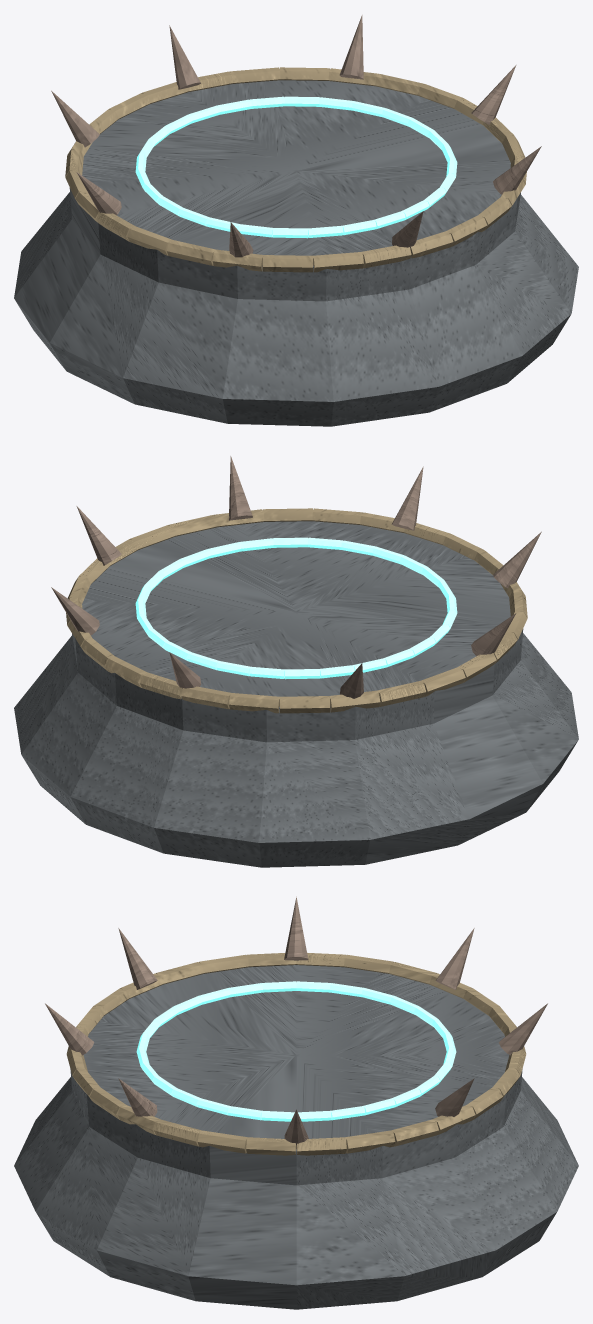
File: leyline_shrine.glb
The picture shows the model from 3 angles, top to bottom: view 1: azimuth 30°, elevation 25°; view 2: azimuth 150°, elevation 25°; view 3: azimuth 270°, elevation 25°; orthographic projection.
Visible parts, largest first — view 1: stone, gold, glowcyan, bronze; view 2: stone, gold, glowcyan, bronze; view 3: stone, gold, glowcyan, bronze.
Part boxes in pixels (box(x1,y1,x2,y2)): stone: box(14, 80, 578, 426); gold: box(65, 67, 526, 272); glowcyan: box(135, 96, 457, 238); bronze: box(51, 15, 541, 257); stone: box(14, 521, 578, 867); gold: box(66, 508, 527, 713); glowcyan: box(135, 537, 457, 679); bronze: box(51, 456, 541, 698); stone: box(14, 965, 578, 1309); gold: box(66, 952, 526, 1155); glowcyan: box(136, 981, 456, 1121); bronze: box(45, 896, 547, 1148).
Size of the model in its own units: 4.08 by 1.56 by 4.08.
Materials: 4 (4 with a texture image).
